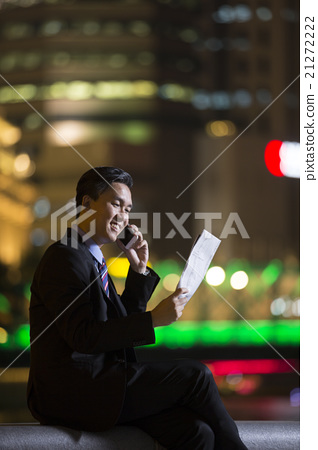phone: (122, 220, 147, 249)
talk: (103, 197, 156, 273)
